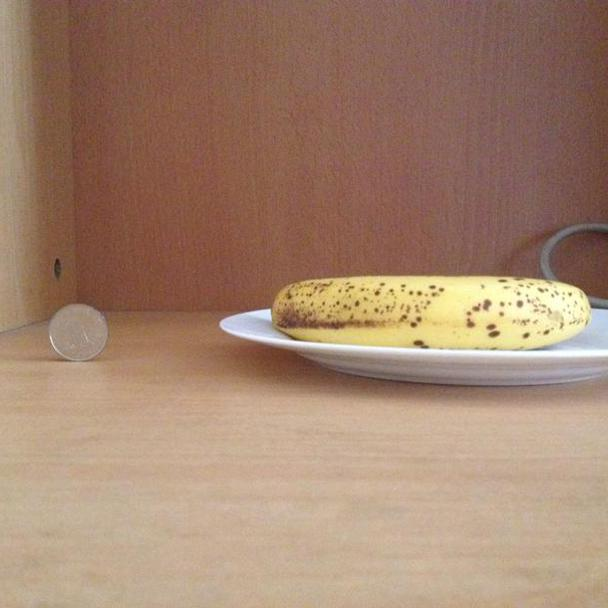banana: (261, 273, 591, 352)
